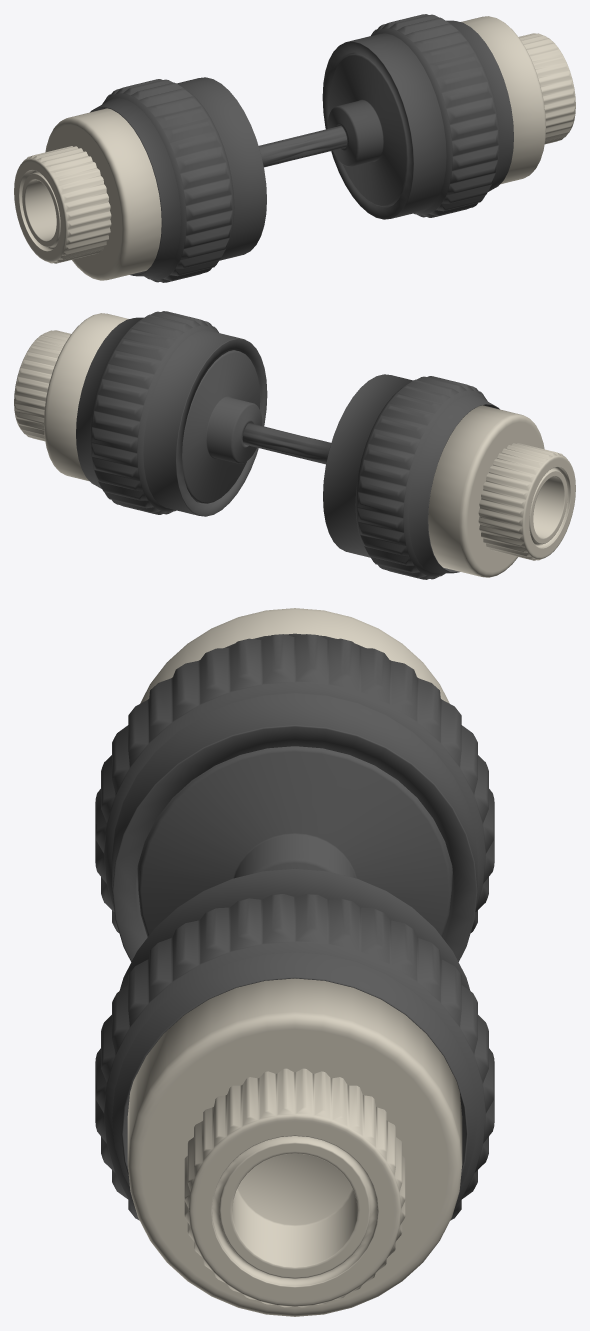
3 views of the same model, one above another, from view 1: azimuth 30°, elevation 25°; view 2: azimuth 150°, elevation 25°; view 3: azimuth 270°, elevation 25° (orthographic). The views are drawn at different scales.
Visible parts, largest first — view 1: MicroScope_Base_v013_2; view 2: MicroScope_Base_v013_2; view 3: MicroScope_Base_v013_2.
Boxes of the visible parts, x1,y1,x2,y2 form: MicroScope_Base_v013_2: (14,14,575,282); MicroScope_Base_v013_2: (14,311,575,579); MicroScope_Base_v013_2: (95,608,494,1316).
Size of the model in its own units: 1.18 by 0.4008 by 0.4008.
